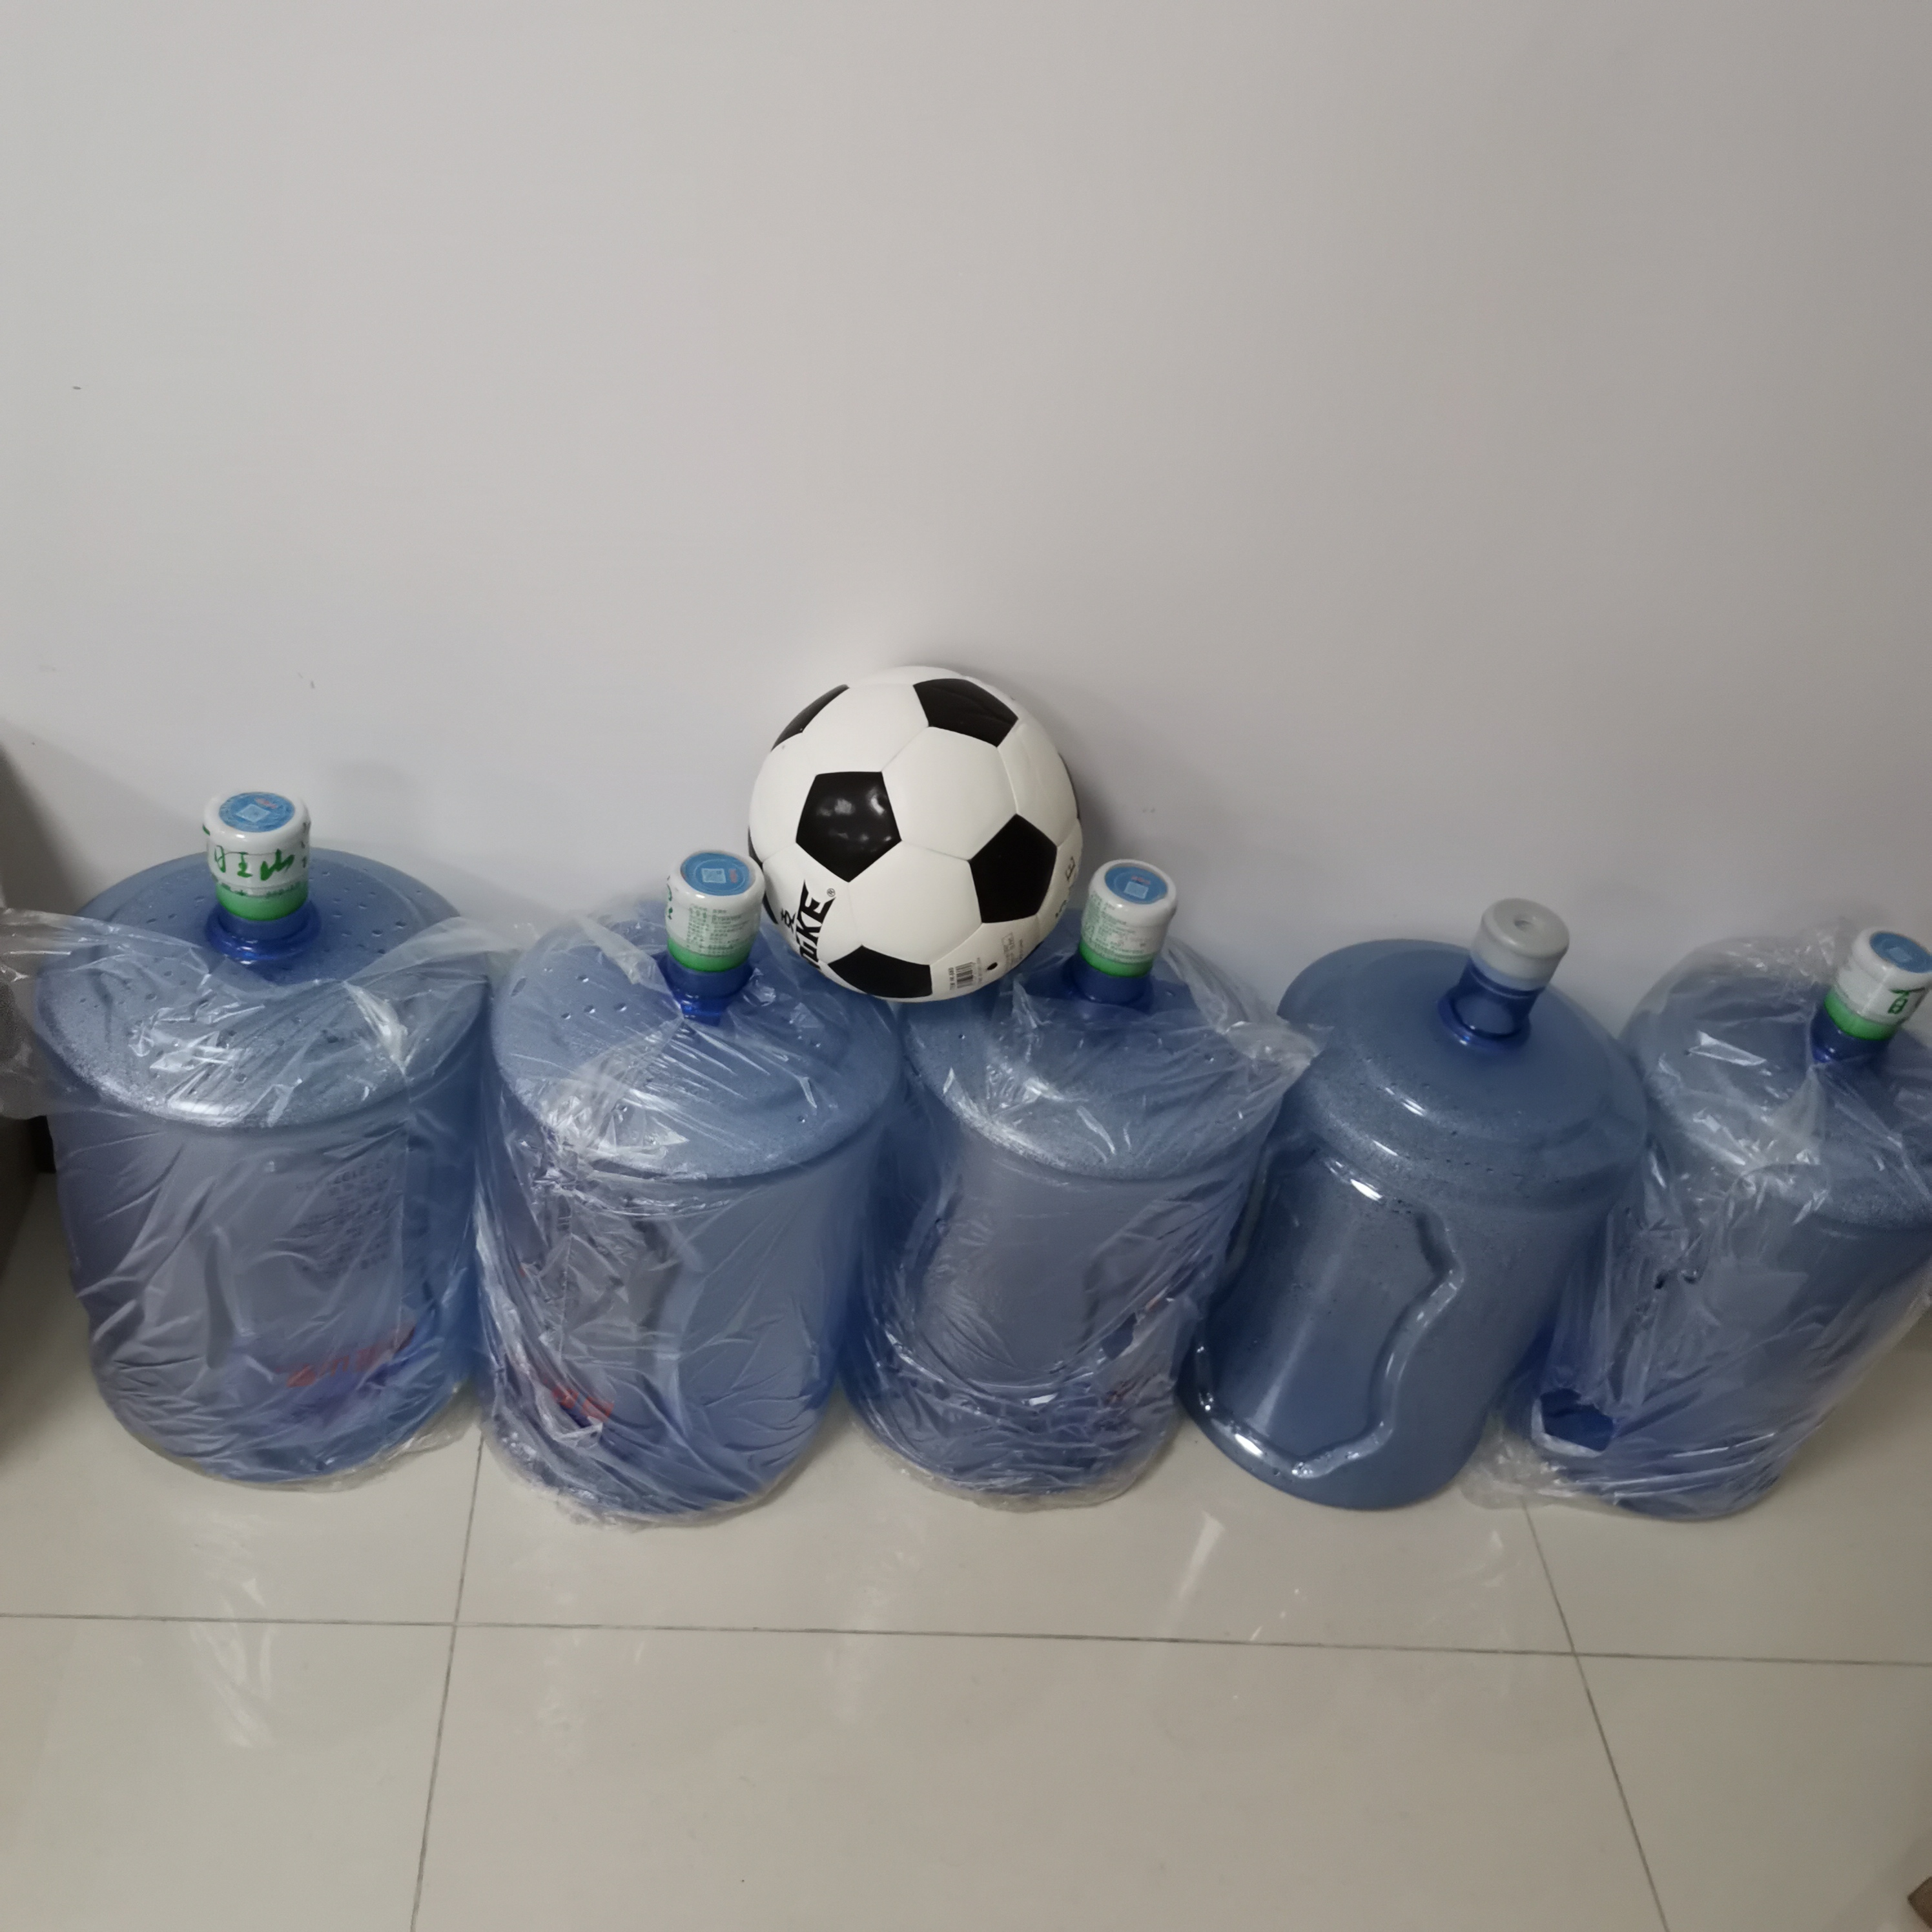football: (750, 663, 1081, 1001)
